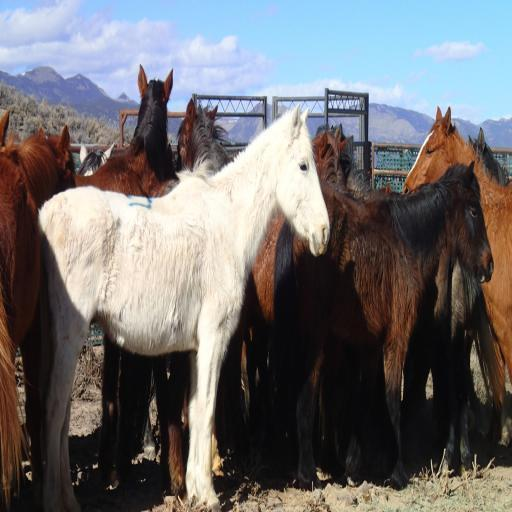horse: (0, 60, 512, 512)
